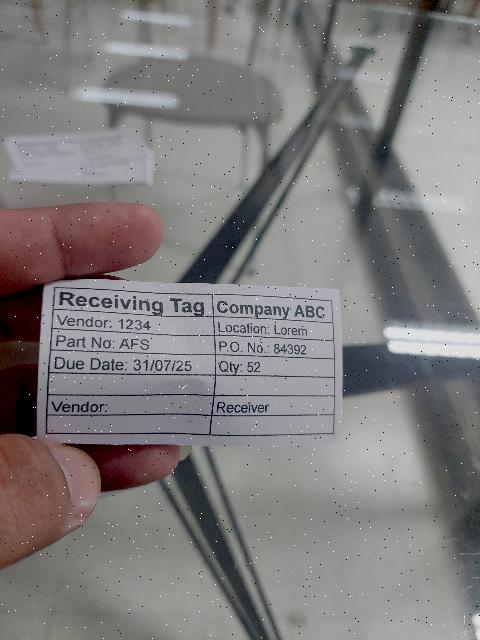PO no: (215, 336, 334, 359)
part no: (51, 328, 209, 355)
qty: (216, 354, 334, 376)
tags: (35, 278, 344, 450)
